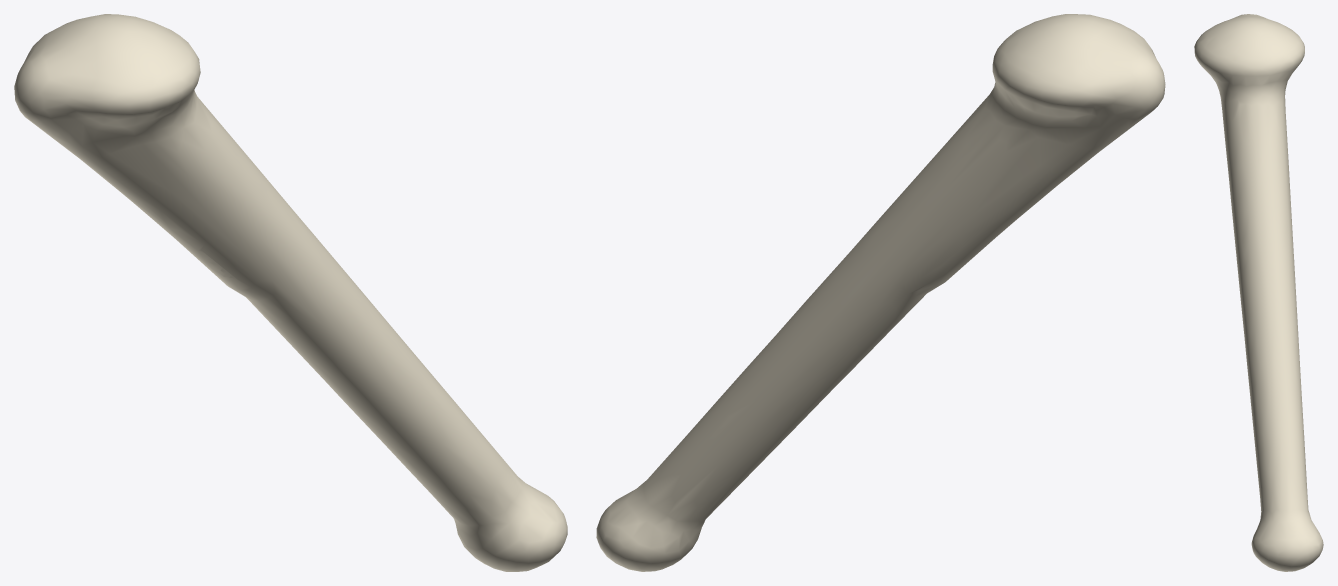
File: tibia_l.glb
3 views of the same model, side by side, from view 1: azimuth 30°, elevation 25°; view 2: azimuth 150°, elevation 25°; view 3: azimuth 270°, elevation 25° (orthographic). The views are drawn at different scales.
Visible parts, largest first — view 1: geometry_0; view 2: geometry_0; view 3: geometry_0.
Boxes of the visible parts, <box> form: geometry_0: <box>14,14,567,571</box>; geometry_0: <box>596,14,1165,571</box>; geometry_0: <box>1194,14,1323,571</box>.
Bounding box in the file's own units: 0.6481 × 0.7279 × 0.2049.
